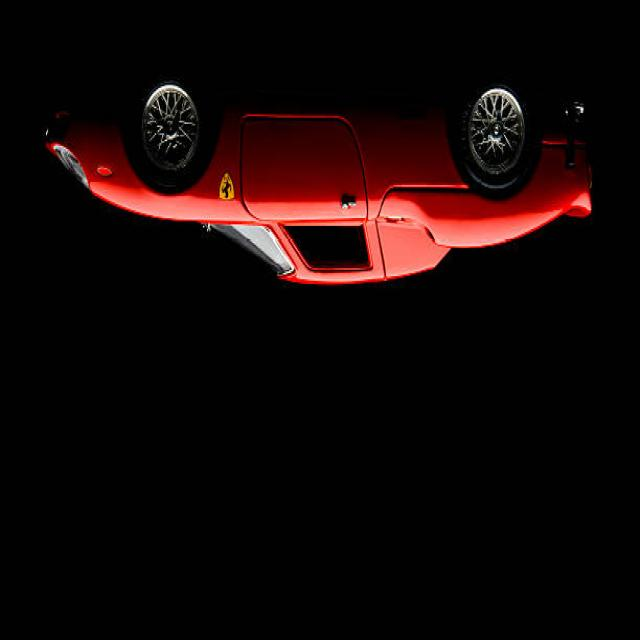Car: (42, 70, 593, 288)
